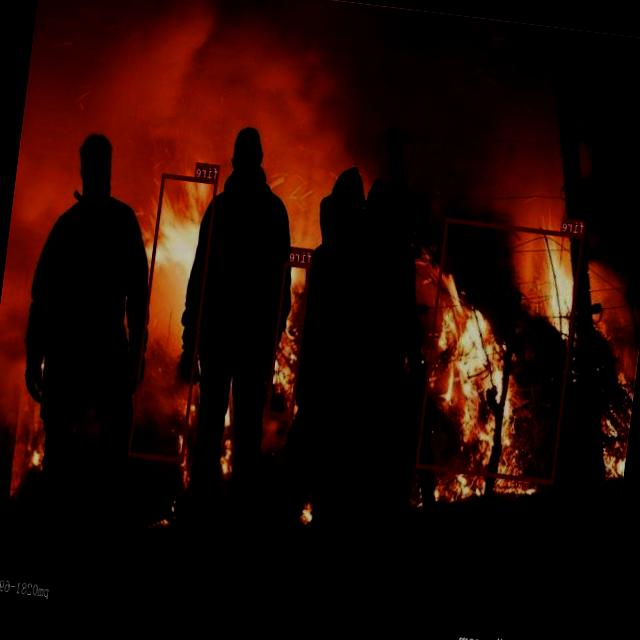fire: (415, 217, 584, 483), (128, 172, 218, 462), (266, 260, 312, 418)
